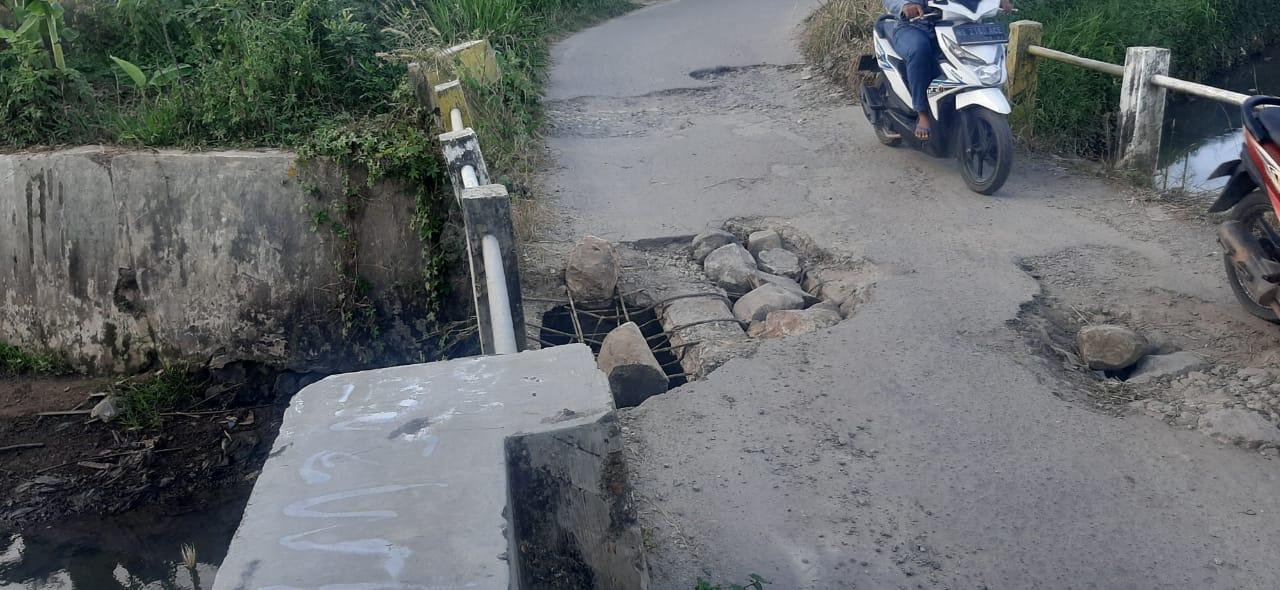Pothole: (971, 231, 1280, 448), (534, 232, 858, 398)
